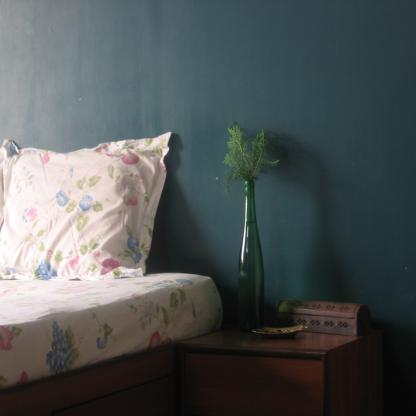vase: (238, 180, 266, 335)
